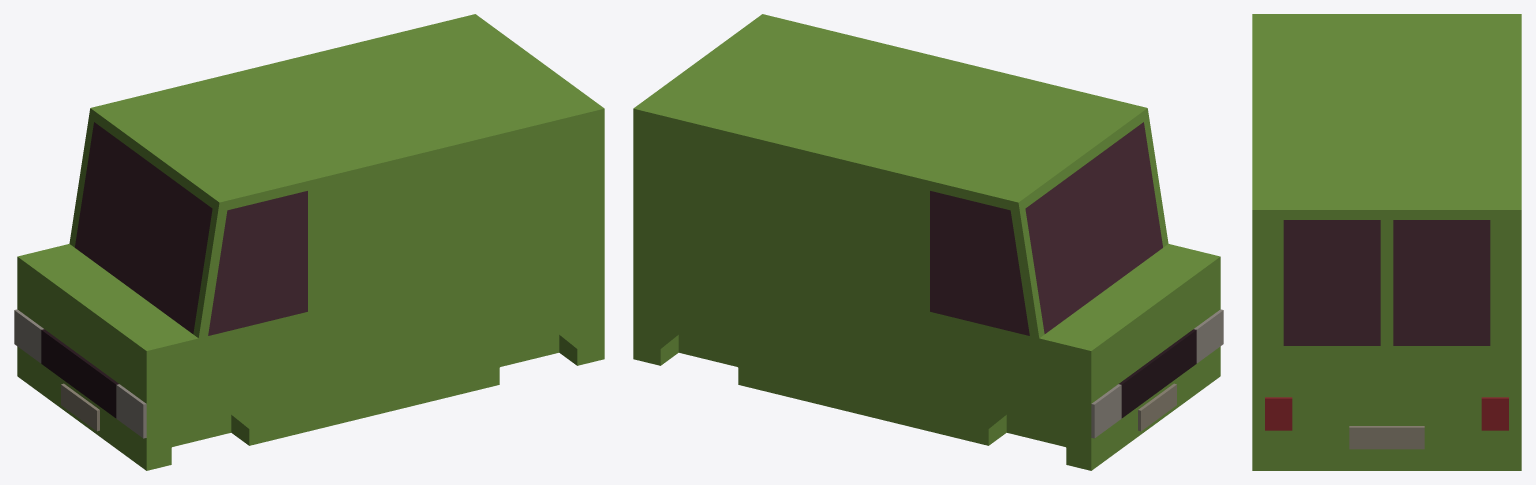
Rendered from Van_Green.fbx.
3 views of the same model, side by side, from view 1: azimuth 30°, elevation 25°; view 2: azimuth 150°, elevation 25°; view 3: azimuth 270°, elevation 25° (orthographic). The views are drawn at different scales.
Visible parts, largest first — view 1: Van_Green, Van_Lights; view 2: Van_Green, Van_Lights; view 3: Van_Green, Van_Lights.
Boxes of the visible parts, x1,y1,x2,y2 form: Van_Green: (17, 14, 604, 470); Van_Lights: (14, 309, 146, 438); Van_Green: (633, 14, 1220, 470); Van_Lights: (1091, 309, 1223, 438); Van_Green: (1252, 14, 1521, 470); Van_Lights: (1265, 397, 1508, 430).
Size of the model in its own units: 4.46 by 2.3 by 2.15.
